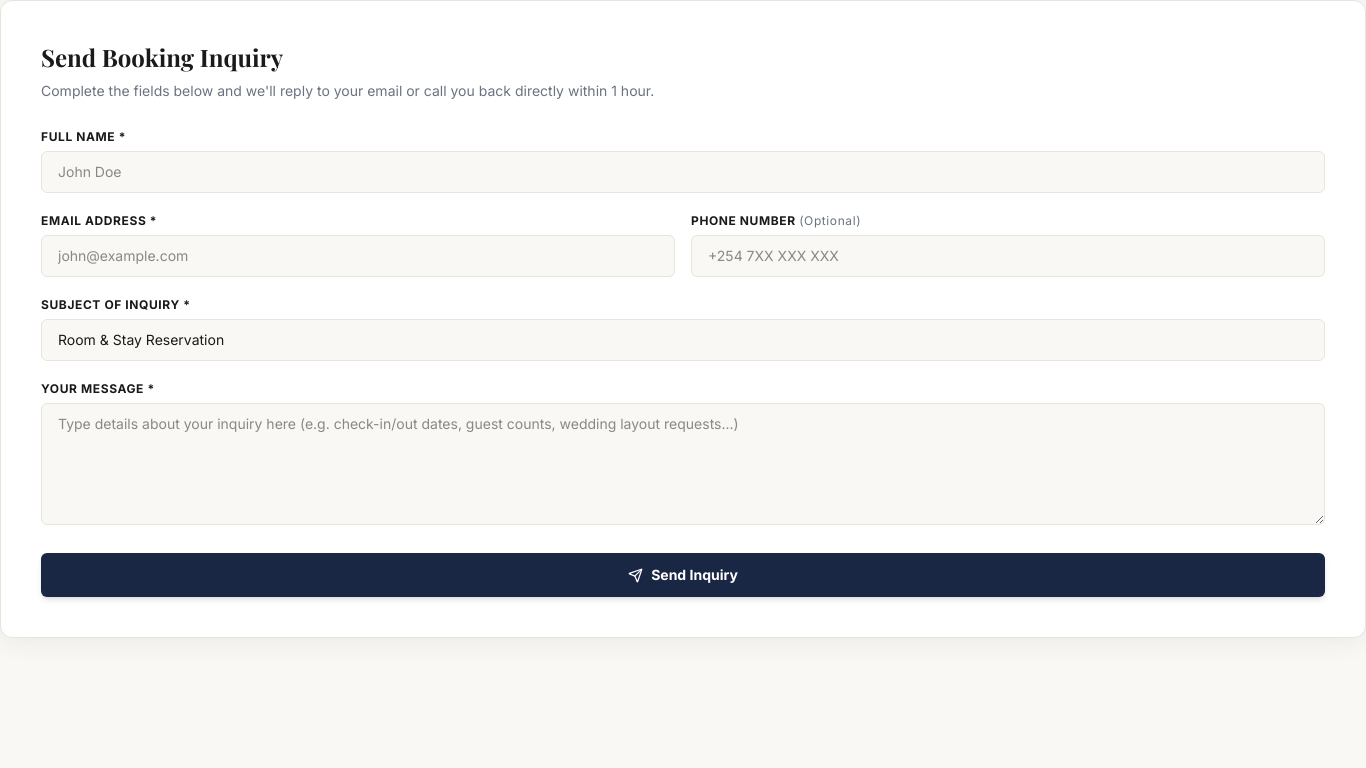
Test case: ContactForm › shows message length error when message is fewer than 10 characters
The width and height of the screenshot is (1366, 768).
Type "Jane Doe" into the field labelled "Full Name *" at (683, 172), box [41, 151, 1325, 193]
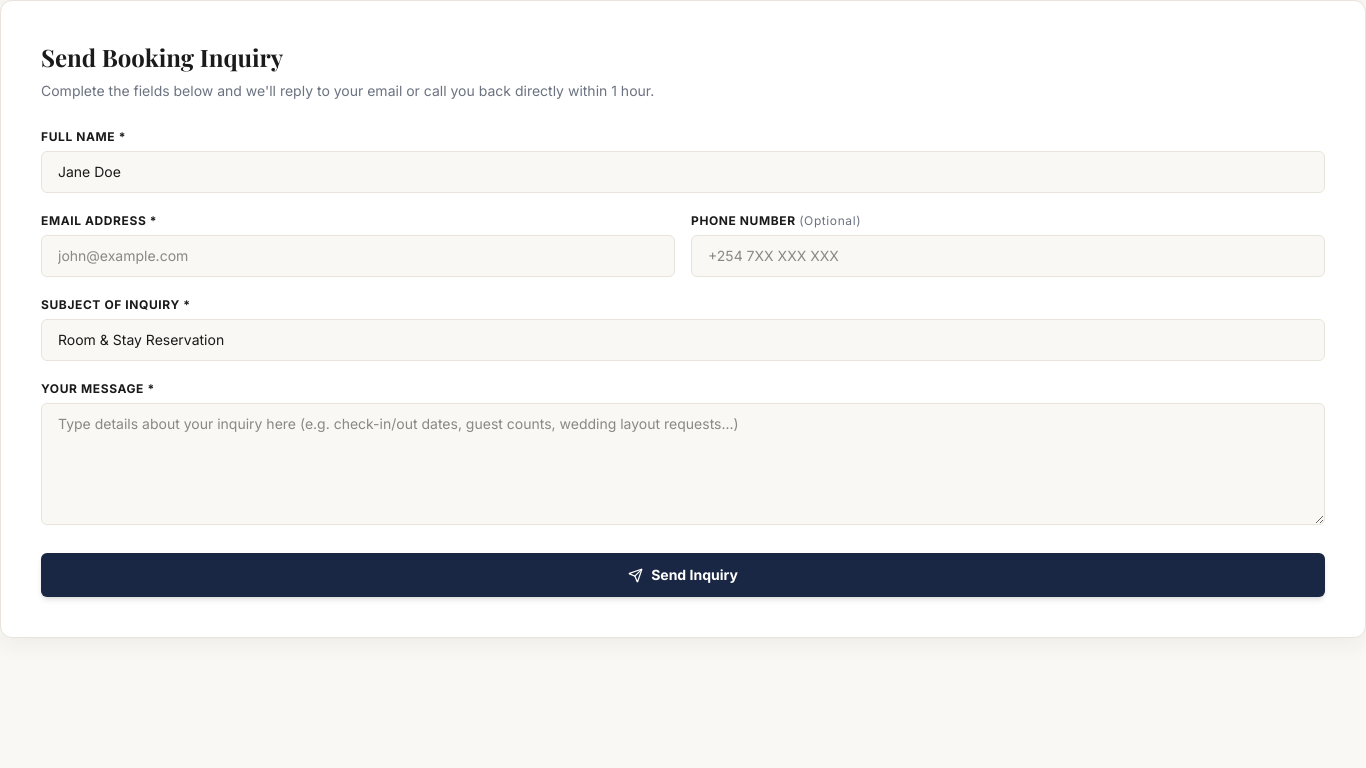
Type "jane@example.com" into the field labelled "Email Address *" at (358, 256), box [41, 235, 675, 277]
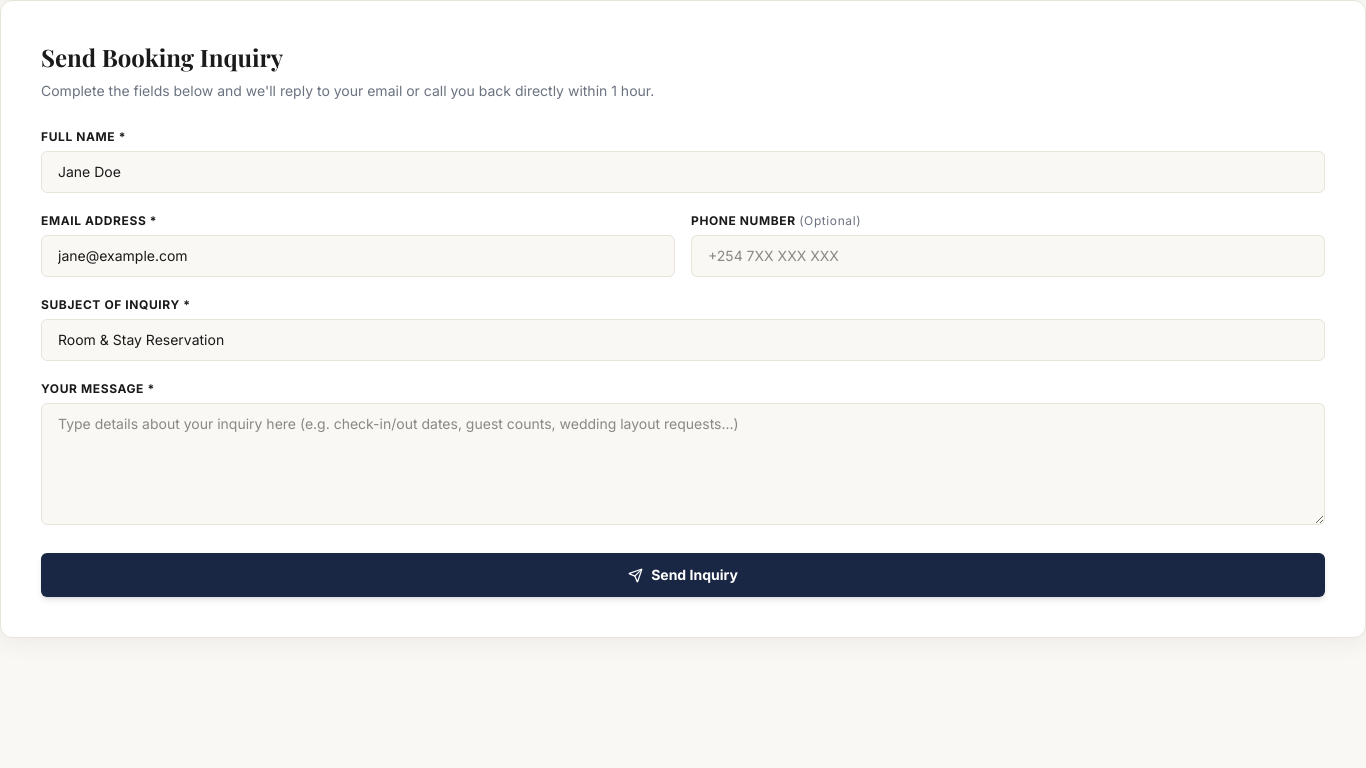
Replace the text in the text box labelled "Your Message *" with "Short" at (683, 464), box [41, 403, 1325, 525]
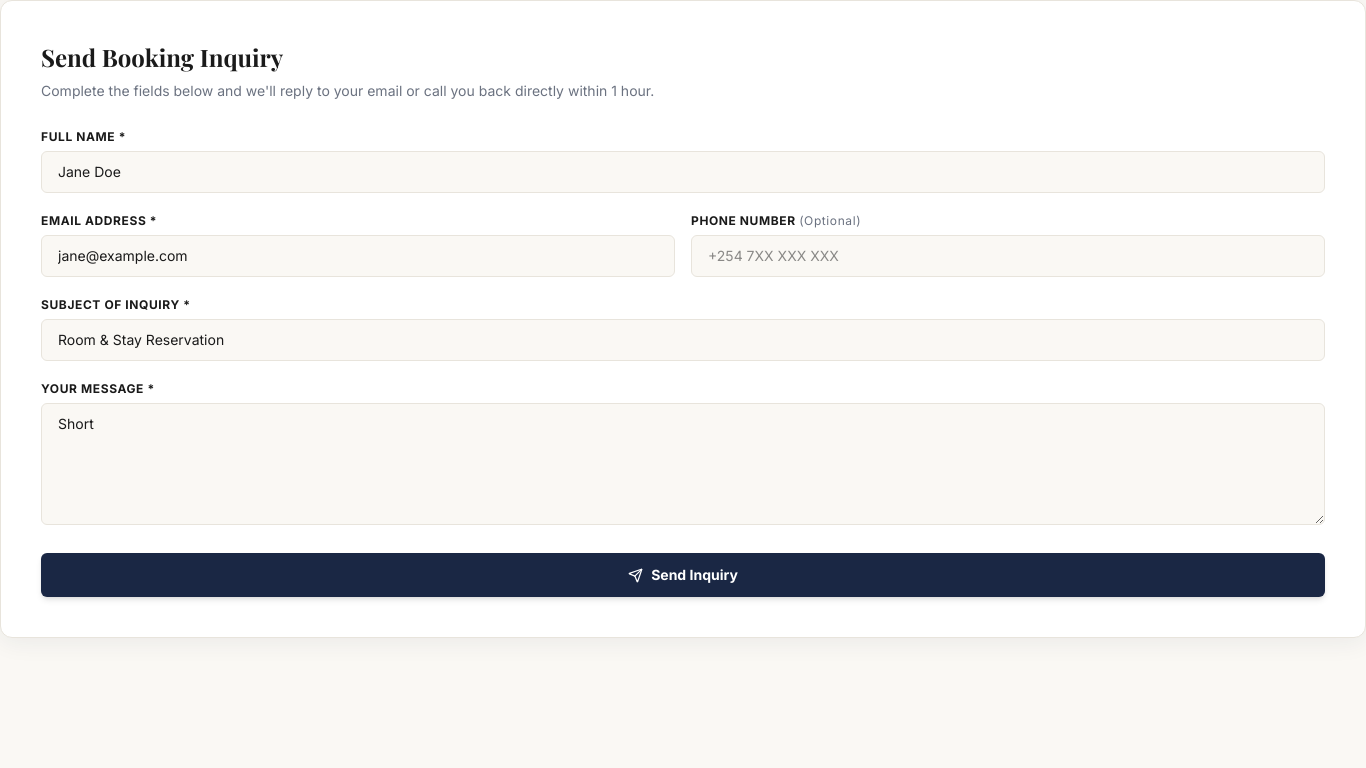
Submit the form
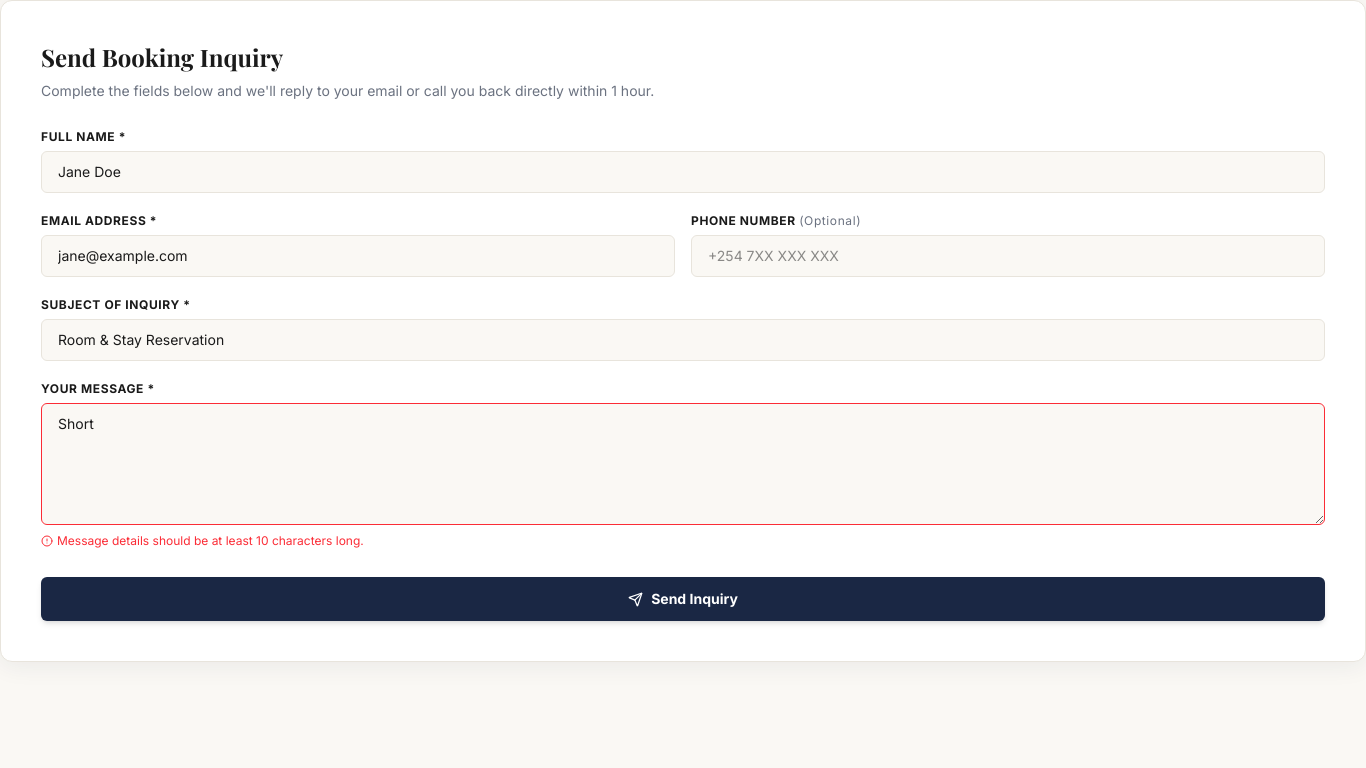
Expected: the text "Message details should be at least 10 characters long." is shown, [41, 533, 364, 548]
